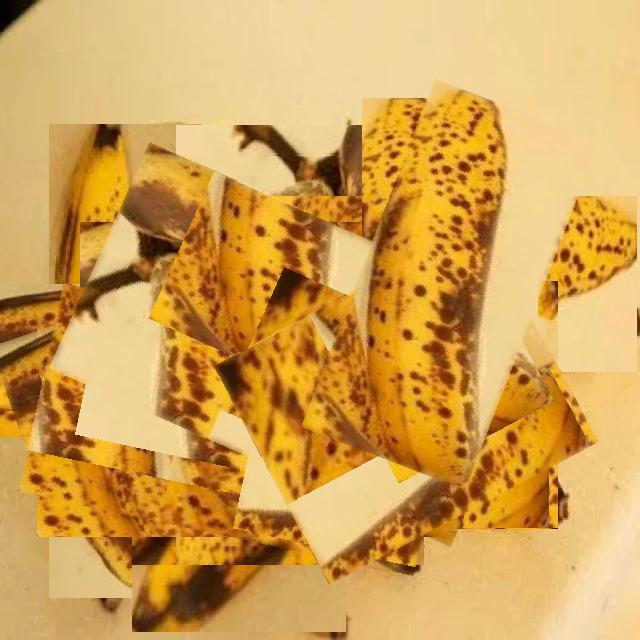Muito Madura: (119, 152, 487, 547), (56, 283, 422, 576), (0, 270, 355, 458), (309, 223, 490, 585), (369, 91, 504, 483)
